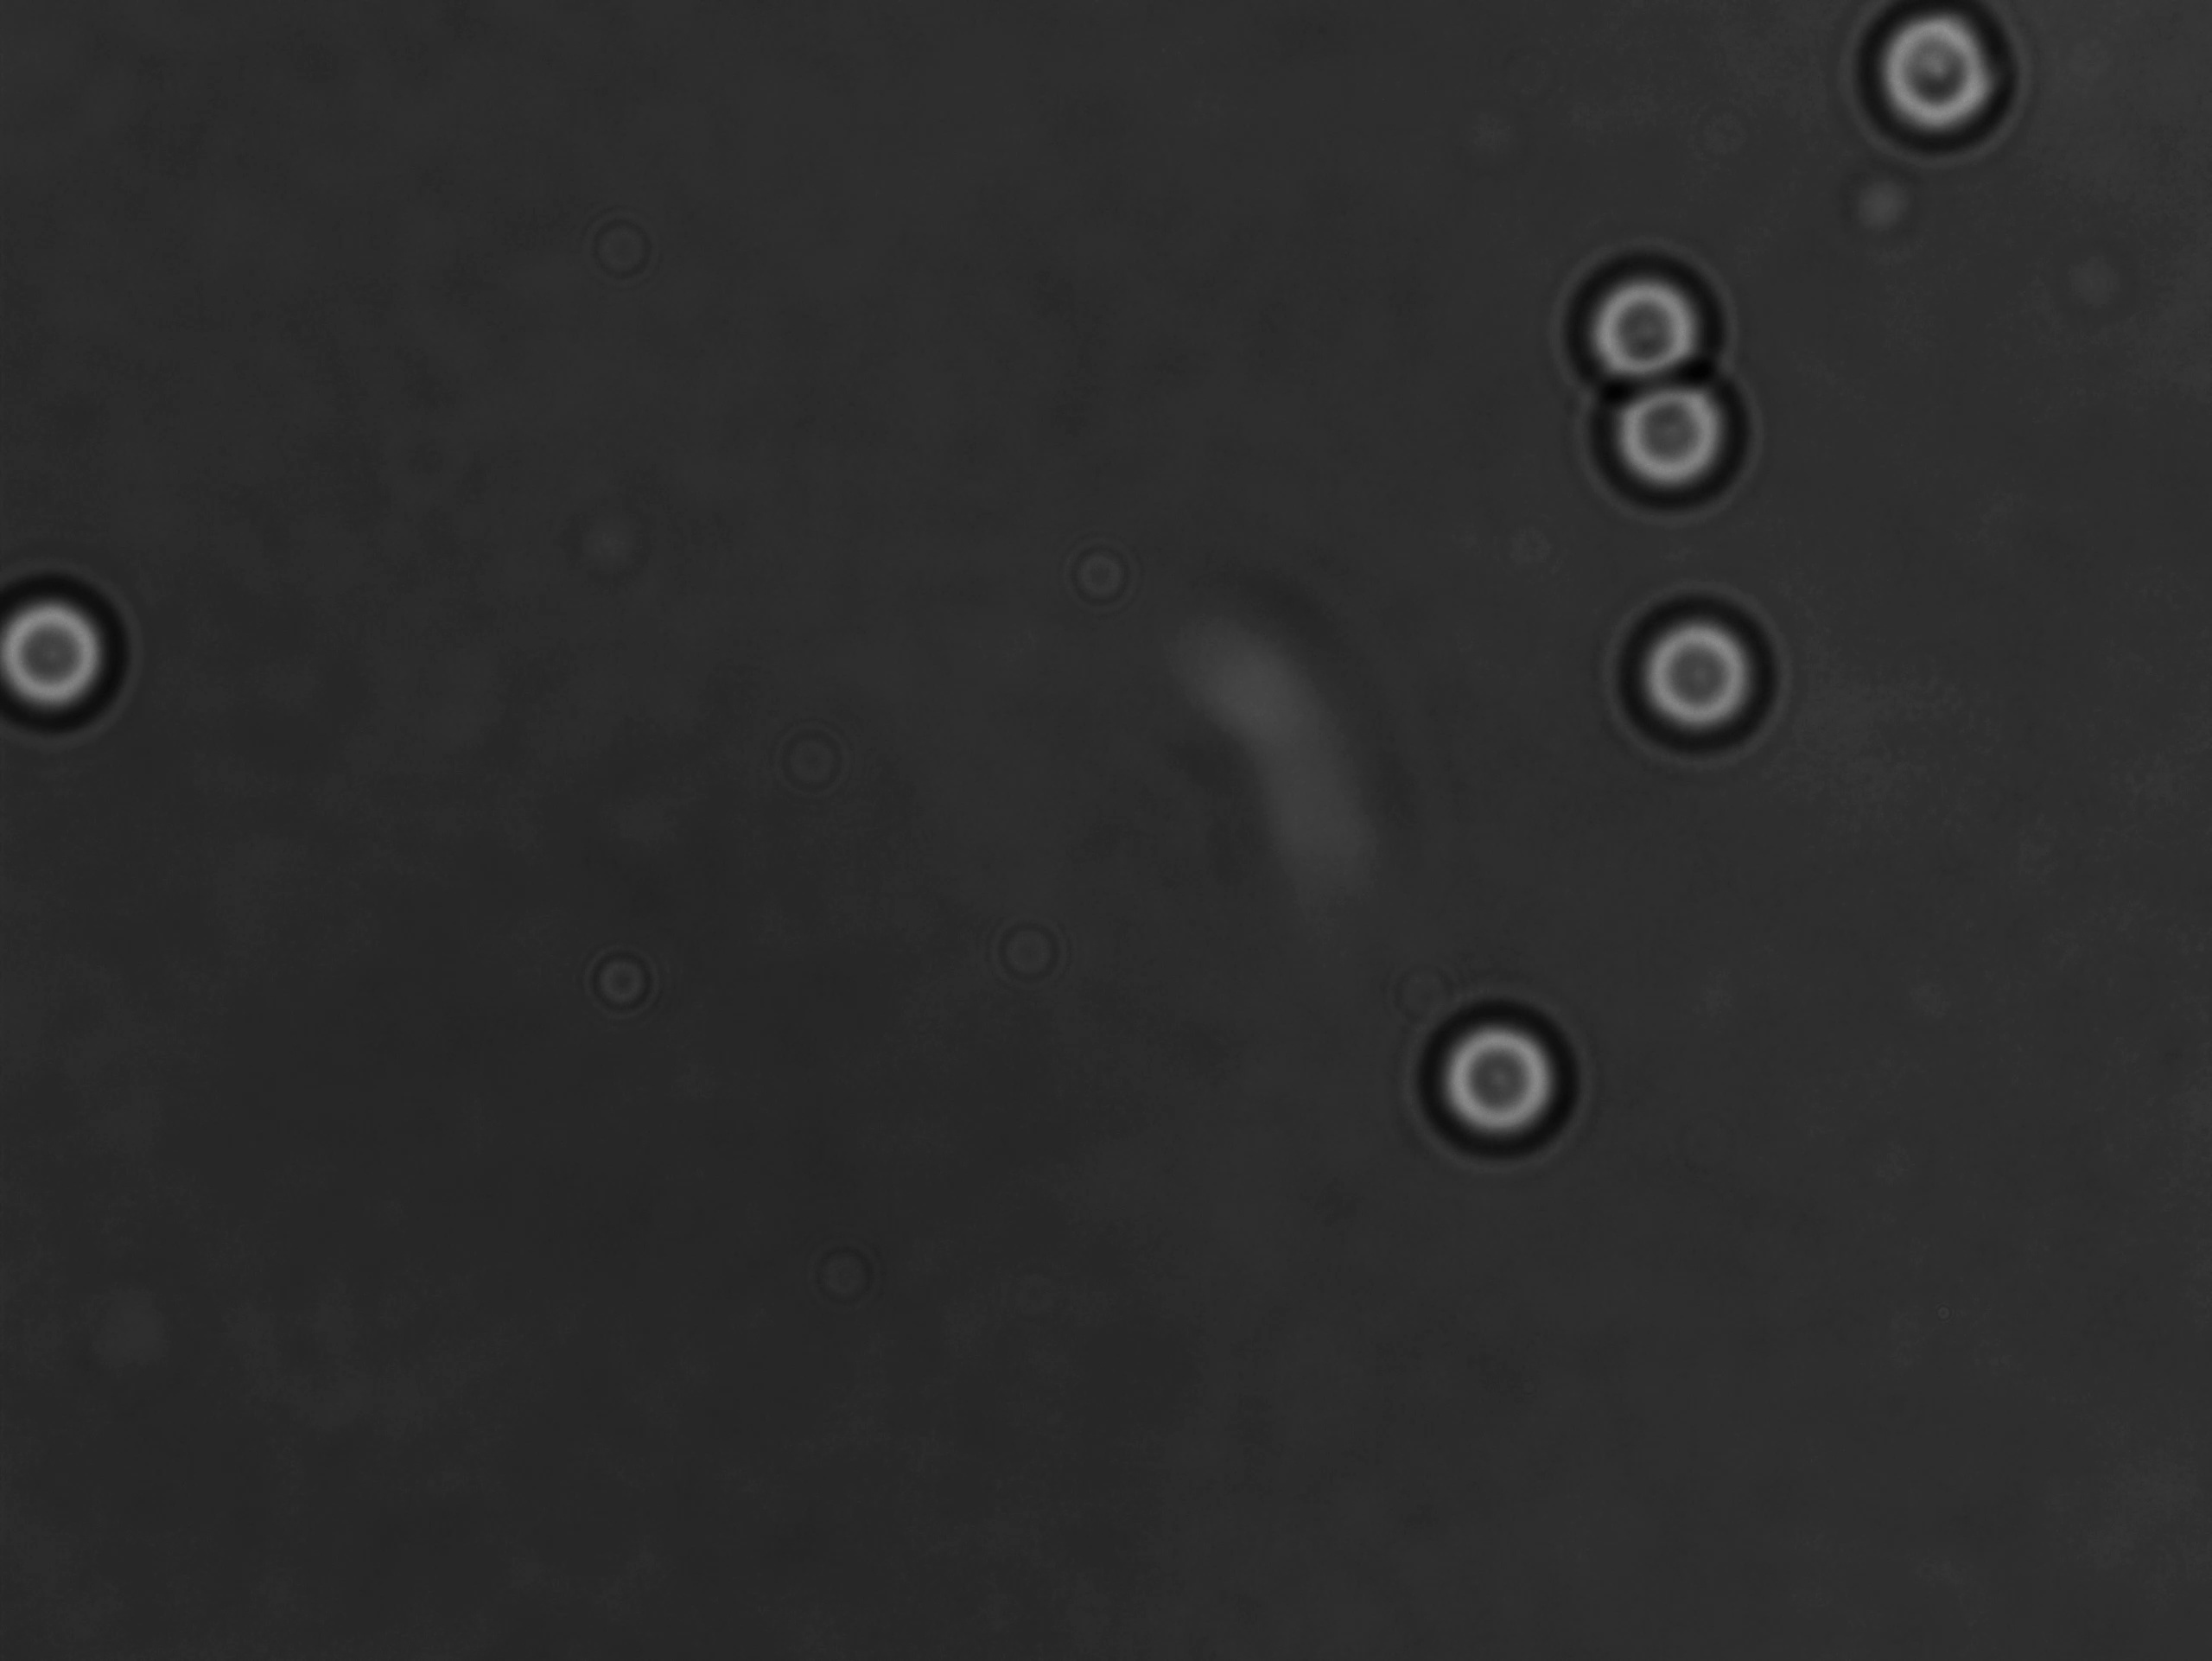depth:40: (1408, 974, 1601, 1171), (1601, 579, 1788, 764), (1547, 227, 1739, 403), (1586, 351, 1765, 513)
